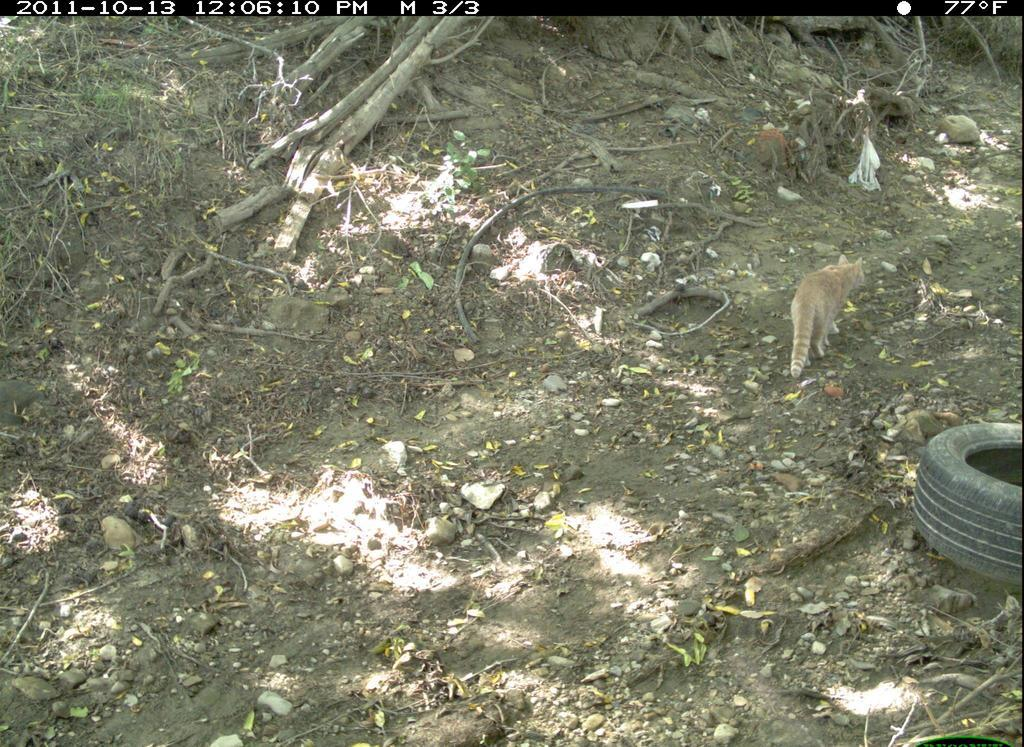cat: (780, 247, 872, 390)
